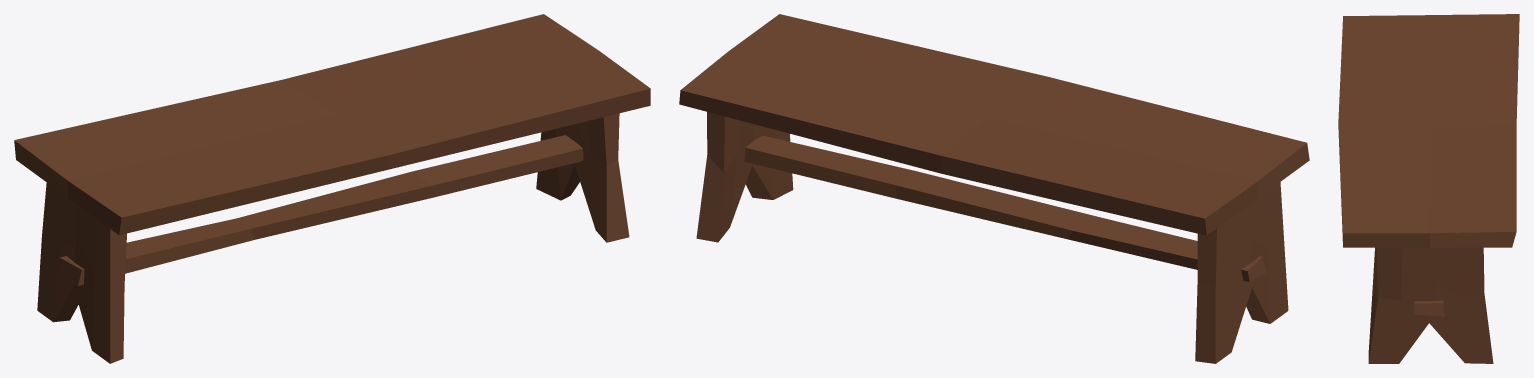
File: bench.glb
The picture shows the model from 3 angles, left to right: view 1: azimuth 30°, elevation 25°; view 2: azimuth 150°, elevation 25°; view 3: azimuth 270°, elevation 25°; orthographic projection. The views are drawn at different scales.
Visible parts, largest first — view 1: Mesh; view 2: Mesh; view 3: Mesh.
Boxes of the visible parts, x1,y1,x2,y2 form: Mesh: [14, 14, 650, 363]; Mesh: [679, 14, 1309, 363]; Mesh: [1338, 14, 1519, 363].
Bounding box in the file's own units: 1.6 × 0.4565 × 0.559.
